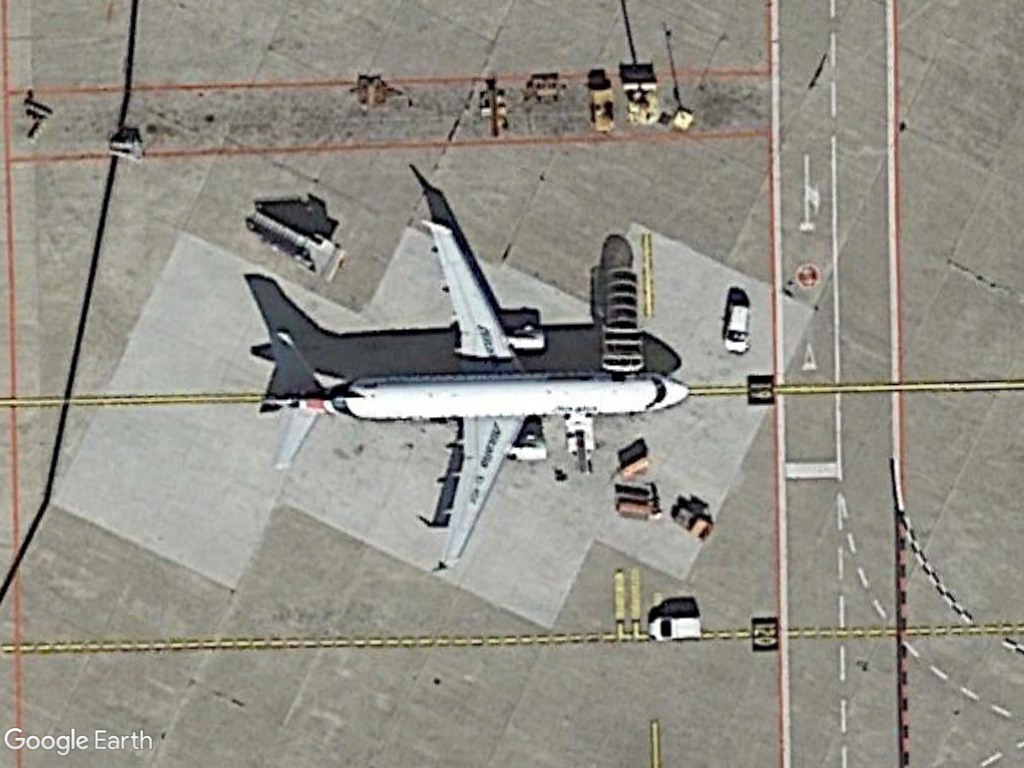airliner: (254, 217, 695, 581)
stairtruck: (246, 205, 348, 283)
van: (645, 611, 707, 645), (723, 298, 754, 357)
